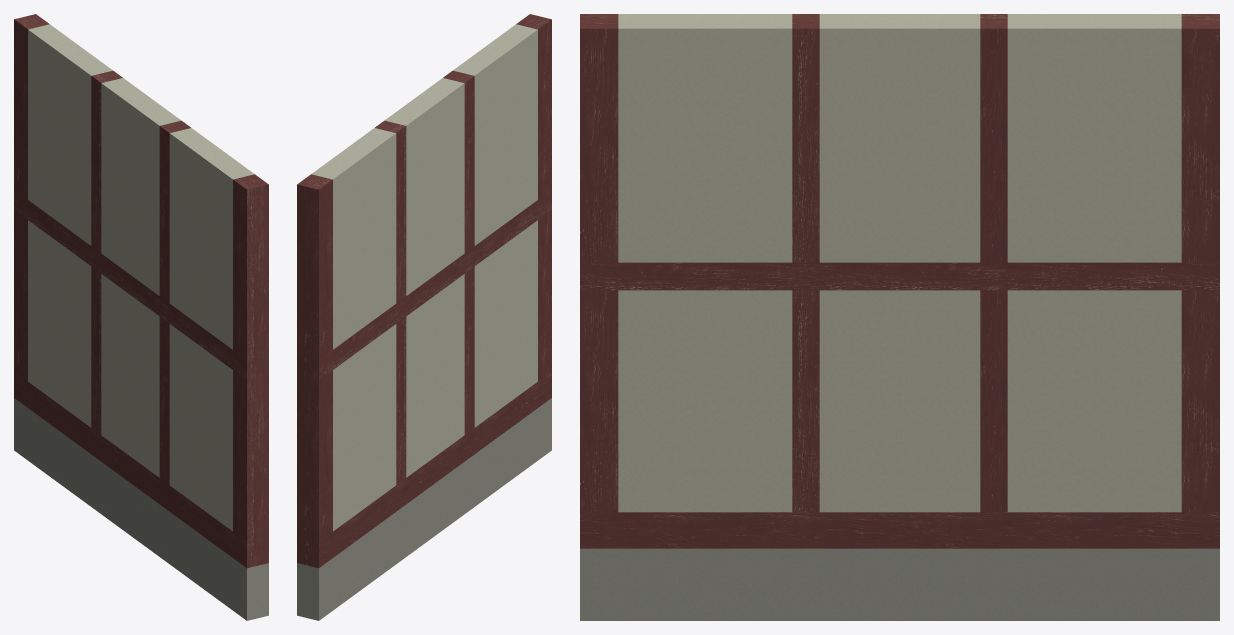
The model's file is SM_Sun_Won_Wall_D.fbx.
3 renders of one model, left to right at view 1: azimuth 30°, elevation 25°; view 2: azimuth 150°, elevation 25°; view 3: azimuth 270°, elevation 25°, orthographic. The views are drawn at different scales.
Visible parts, largest first — view 1: SM_Sun_Won_Wall_D; view 2: SM_Sun_Won_Wall_D; view 3: SM_Sun_Won_Wall_D.
Boxes of the visible parts, x1,y1,x2,y2 form: SM_Sun_Won_Wall_D: (14,14,268,620); SM_Sun_Won_Wall_D: (297,14,551,620); SM_Sun_Won_Wall_D: (580,14,1219,620).
Bounding box in the file's own units: 15 × 283 × 277.
